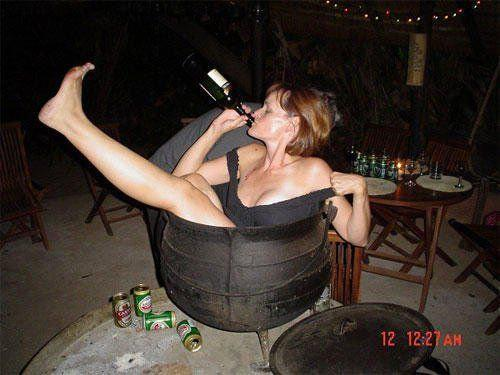Drunk: (249, 96, 292, 140)
